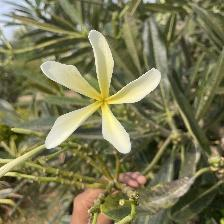champaka: (38, 27, 166, 159)
